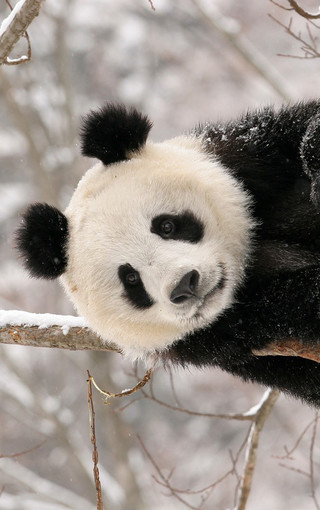panda: (20, 90, 320, 414)
